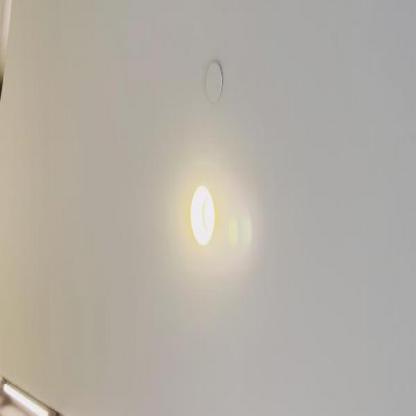light_on: (182, 163, 219, 265)
